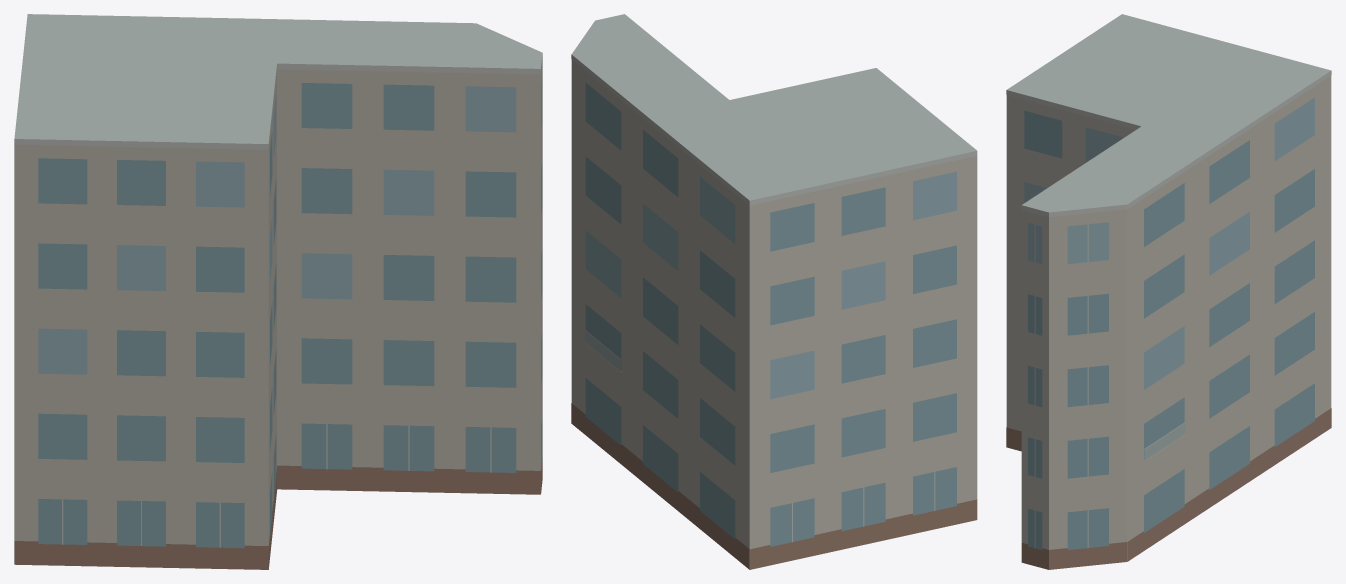
Rendered from survey-upis-32787681.glb.
3 renders of one model, left to right at view 1: azimuth 30°, elevation 25°; view 2: azimuth 150°, elevation 25°; view 3: azimuth 270°, elevation 25°, orthographic. The views are drawn at different scales.
Visible parts, largest first — view 1: survey-upis-32787681.tmp; view 2: survey-upis-32787681.tmp; view 3: survey-upis-32787681.tmp.
Part boxes in pixels (x1,y1,x2,y2): survey-upis-32787681.tmp: (14,14,542,569); survey-upis-32787681.tmp: (571,14,977,569); survey-upis-32787681.tmp: (1006,14,1331,569).
Size of the model in its own units: 21.69 by 18.2 by 15.01.
